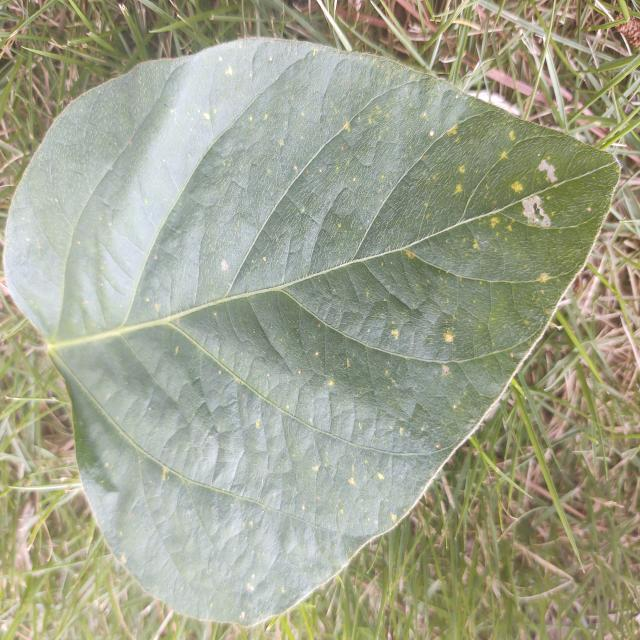Soybean: (1, 37, 620, 628)
downey_mildew: (417, 197, 547, 437), (214, 78, 320, 255), (302, 411, 398, 584), (193, 313, 314, 447), (290, 103, 370, 225), (436, 274, 486, 358), (514, 166, 562, 250), (538, 159, 559, 184), (510, 180, 523, 193), (446, 125, 458, 136), (490, 217, 500, 229), (443, 331, 453, 343), (118, 3, 128, 14), (405, 250, 415, 260), (221, 259, 229, 271), (499, 150, 508, 160), (455, 183, 463, 194), (391, 328, 399, 339), (225, 66, 233, 76), (442, 365, 450, 375), (509, 130, 516, 141), (458, 165, 466, 174), (119, 555, 127, 564), (472, 240, 479, 250), (343, 122, 350, 131), (203, 111, 210, 120), (247, 583, 254, 592), (377, 472, 384, 480), (154, 303, 160, 311), (279, 139, 285, 147), (174, 346, 179, 355), (240, 611, 245, 620), (399, 427, 404, 435), (346, 359, 350, 368), (248, 115, 253, 122), (429, 130, 434, 137), (422, 112, 427, 118), (104, 462, 109, 468), (435, 444, 440, 450), (455, 94, 460, 99), (170, 108, 174, 114), (262, 256, 266, 262), (315, 351, 319, 357), (453, 404, 457, 410), (213, 311, 217, 316), (298, 370, 302, 375), (218, 370, 222, 375)
